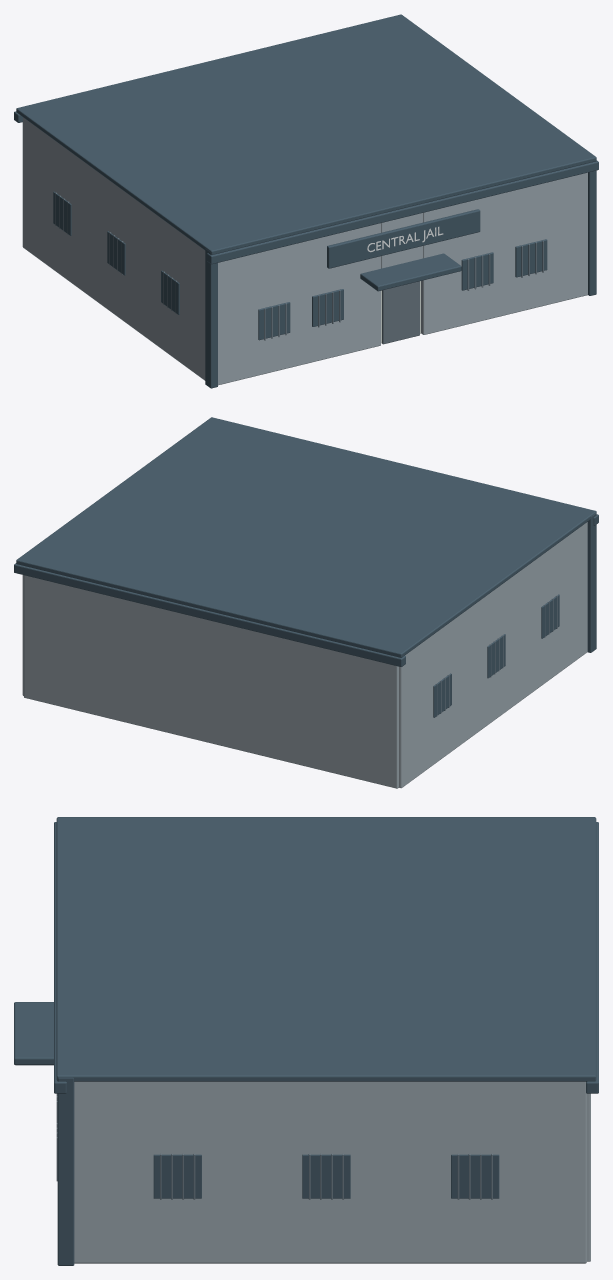
The model's file is base-playable-jail.glb.
3 views of the same model, one above another, from view 1: azimuth 30°, elevation 25°; view 2: azimuth 150°, elevation 25°; view 3: azimuth 270°, elevation 25° (orthographic). The views are drawn at different scales.
Visible parts, largest first — view 1: roof-trim, shell-concrete, shell-trim, entrance door, shell-steel; view 2: roof-trim, shell-concrete, shell-trim; view 3: roof-trim, shell-concrete, shell-trim, shell-steel.
Boxes of the visible parts, x1,y1,x2,y2 form: roof-trim: (16,14,596,254); shell-concrete: (22,117,587,385); shell-trim: (14,111,598,388); entrance door: (382,281,419,344); shell-steel: (55,192,543,340); roof-trim: (16,417,596,657); shell-concrete: (22,522,587,788); shell-trim: (14,513,598,717); roof-trim: (56,817,596,1081); shell-concrete: (74,1081,590,1263); shell-trim: (14,822,598,1265); shell-steel: (56,1093,492,1199).
Bounding box in the file's own units: 16.6 × 5.65 × 15.72.
